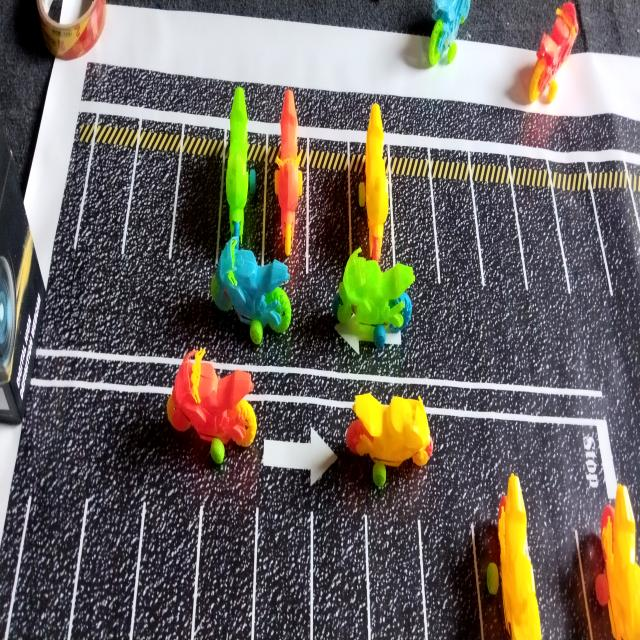bikes: (168, 349, 257, 464), (211, 235, 291, 345), (346, 394, 433, 487), (336, 249, 415, 349), (530, 2, 579, 100), (428, 0, 473, 66)
occupied: (471, 474, 541, 640), (575, 484, 640, 640), (218, 89, 269, 259), (266, 88, 304, 296), (346, 104, 392, 261)
others: (0, 130, 45, 425), (37, 0, 106, 60)
slots: (9, 479, 85, 640), (70, 498, 143, 640), (133, 491, 199, 638), (528, 501, 590, 640), (195, 501, 256, 640), (254, 499, 310, 638), (314, 501, 368, 640), (424, 514, 480, 640), (77, 141, 135, 262), (369, 519, 425, 640), (123, 150, 179, 265), (555, 190, 610, 297), (172, 153, 221, 272), (474, 182, 525, 286), (516, 190, 567, 290), (433, 178, 480, 282), (592, 190, 640, 291), (307, 169, 349, 279), (395, 179, 438, 284)
